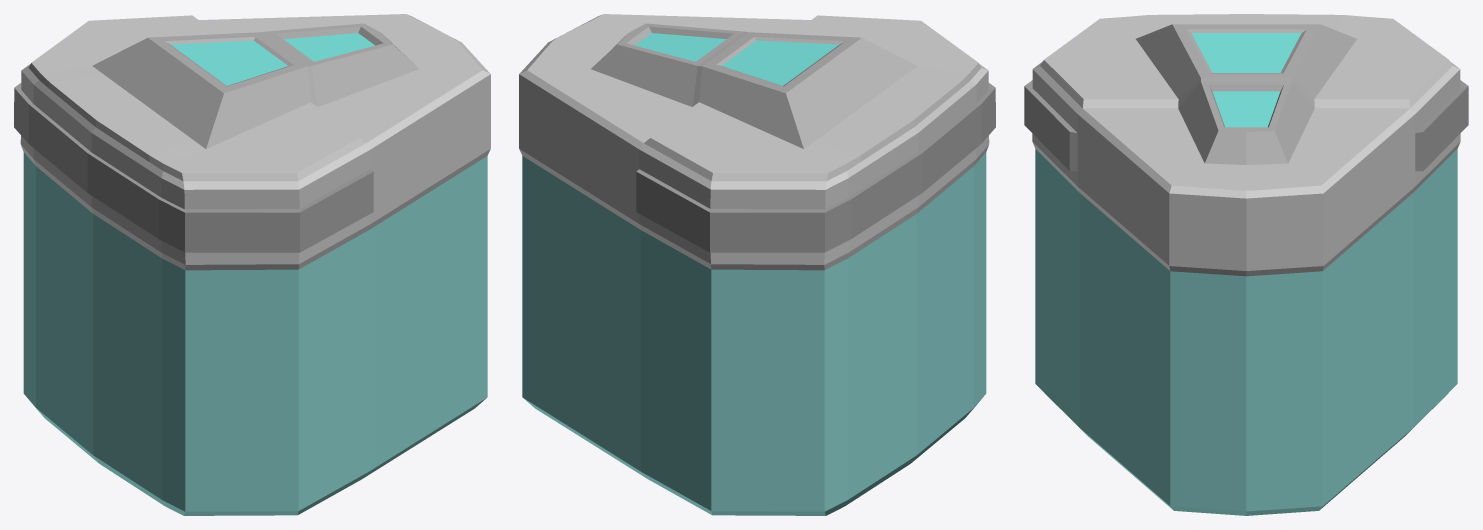
File: Jar.fbx
3 views of the same model, side by side, from view 1: azimuth 30°, elevation 25°; view 2: azimuth 150°, elevation 25°; view 3: azimuth 270°, elevation 25° (orthographic). The views are drawn at different scales.
Visible parts, largest first — view 1: Container, Lid, Screenholder, Detail03, Screens; view 2: Container, Lid, Screenholder, Detail03, Screens; view 3: Container, Lid, Screenholder, Screens, Detail03.
Boxes of the visible parts, x1,y1,x2,y2 form: Container: (23,152,487,515); Lid: (20,14,490,270); Screenholder: (92,23,418,148); Detail03: (14,83,373,252); Screens: (171,33,374,85); Container: (522,152,986,515); Lid: (519,14,989,270); Screenholder: (591,23,917,148); Detail03: (636,83,995,252); Screens: (635,33,838,85); Container: (1035,149,1457,515); Lid: (1032,14,1460,276); Screenholder: (1136,24,1356,164); Screens: (1191,33,1301,127); Detail03: (1024,80,1468,171).
Bounding box in the file's own units: 181 × 165 × 171.
